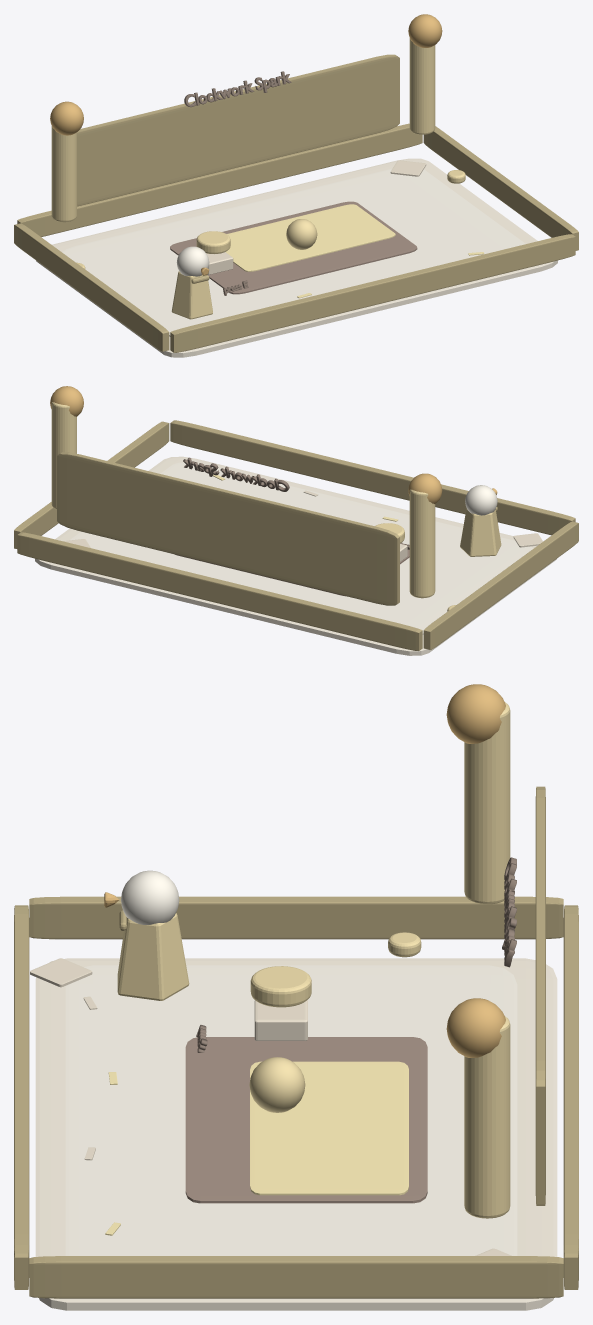
File: 15_frame_events.glb
3 renders of one model, top to bottom at view 1: azimuth 30°, elevation 25°; view 2: azimuth 150°, elevation 25°; view 3: azimuth 270°, elevation 25°, orthographic. The views are drawn at different scales.
Parts seen in each view (by area): view 1: BackCard, FloorLayerInset, SouthRail-col, NorthRail-col, PaperFloor-col, StageMatHighlight, StageMat, WestRail-col, EastRail-col, PaperLantern.001, FpeRushPlayer, PaperLantern (+7 smaller); view 2: BackCard, FloorLayerInset, NorthRail-col, SouthRail-col, PaperFloor-col, WestRail-col, PaperLantern, FpeRushPlayer, EastRail-col, PaperLantern.001, TitleLabel, LanternGlow.001 (+1 smaller); view 3: FloorLayerInset, PaperFloor-col, EastRail-col, WestRail-col, StageMatHighlight, StageMat, PaperLantern.001, PaperLantern, FpeRushPlayer, NorthRail-col, SouthRail-col, BackCard (+7 smaller).
Part boxes in pixels (box(x1,y1,x2,y2)): BackCard: box(77, 54, 399, 206); FloorLayerInset: box(62, 168, 525, 336); SouthRail-col: box(170, 234, 575, 352); NorthRail-col: box(17, 123, 422, 236); PaperFloor-col: box(36, 158, 557, 357); StageMatHighlight: box(225, 204, 395, 271); StageMat: box(170, 201, 417, 294); WestRail-col: box(14, 223, 169, 351); EastRail-col: box(423, 126, 578, 250); PaperLantern.001: box(409, 38, 435, 134); FpeRushPlayer: box(171, 246, 212, 319); PaperLantern: box(51, 126, 76, 222); BackCard: box(57, 452, 399, 605); FloorLayerInset: box(70, 462, 533, 634); NorthRail-col: box(17, 532, 422, 650); SouthRail-col: box(170, 420, 575, 535); PaperFloor-col: box(35, 456, 556, 655); WestRail-col: box(423, 521, 578, 649); PaperLantern: box(409, 489, 435, 598); FpeRushPlayer: box(460, 485, 501, 556); EastRail-col: box(14, 421, 169, 548); PaperLantern.001: box(51, 402, 76, 509); TitleLabel: box(183, 457, 289, 491); LanternGlow.001: box(50, 386, 83, 416); FloorLayerInset: box(65, 965, 517, 1255); PaperFloor-col: box(35, 958, 557, 1310); EastRail-col: box(29, 1256, 563, 1298); WestRail-col: box(29, 896, 563, 939); StageMatHighlight: box(250, 1061, 408, 1195); StageMat: box(185, 1037, 427, 1203); PaperLantern.001: box(464, 1016, 510, 1218); PaperLantern: box(464, 702, 510, 904); FpeRushPlayer: box(104, 870, 189, 1000); NorthRail-col: box(563, 905, 578, 1289); SouthRail-col: box(14, 905, 29, 1289); BackCard: box(535, 786, 545, 1205).
Bounding box in the file's own units: 6.8 × 2.56 × 4.44.
